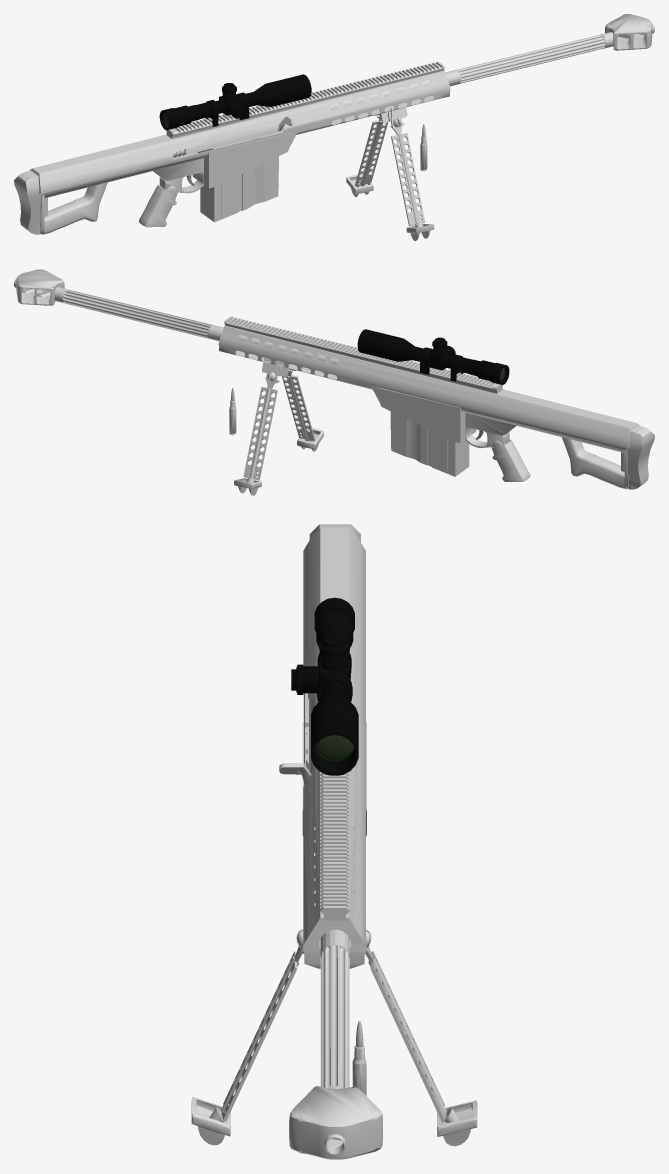
File: barrett_m107.FBX
The picture shows the model from 3 angles, top to bottom: view 1: azimuth 30°, elevation 25°; view 2: azimuth 150°, elevation 25°; view 3: azimuth 270°, elevation 25°; orthographic projection. The views are drawn at different scales.
Parts seen in each view (by area): view 1: barrett m107, barrett m107_barrel, barrett m107_scope, barrett m107_magazine, barrett m107_bipod1, barrett m107_bolt carrier, Box015; view 2: barrett m107, barrett m107_barrel, barrett m107_scope, barrett m107_magazine, Box015, barrett m107_bipod1; view 3: barrett m107, barrett m107_barrel, barrett m107_scope, barrett m107_bipod1, Box015.
Boxes of the visible parts, bbox=[...] form: barrett m107: bbox=[14, 61, 450, 234]; barrett m107_barrel: bbox=[330, 14, 654, 109]; barrett m107_scope: bbox=[159, 74, 311, 130]; barrett m107_magazine: bbox=[200, 132, 278, 222]; barrett m107_bipod1: bbox=[390, 107, 434, 240]; barrett m107_bolt carrier: bbox=[173, 116, 293, 157]; Box015: bbox=[346, 118, 388, 196]; barrett m107: bbox=[218, 316, 654, 489]; barrett m107_barrel: bbox=[14, 269, 339, 364]; barrett m107_scope: bbox=[357, 329, 509, 384]; barrett m107_magazine: bbox=[390, 411, 469, 476]; Box015: bbox=[234, 361, 278, 495]; barrett m107_bipod1: bbox=[282, 370, 324, 451]; barrett m107: bbox=[302, 524, 366, 968]; barrett m107_barrel: bbox=[289, 929, 382, 1159]; barrett m107_scope: bbox=[291, 597, 358, 775]; barrett m107_bipod1: bbox=[191, 929, 303, 1145]; Box015: bbox=[365, 929, 477, 1146].
Bounding box in the file's own units: 57.35 × 14.89 × 11.23.
